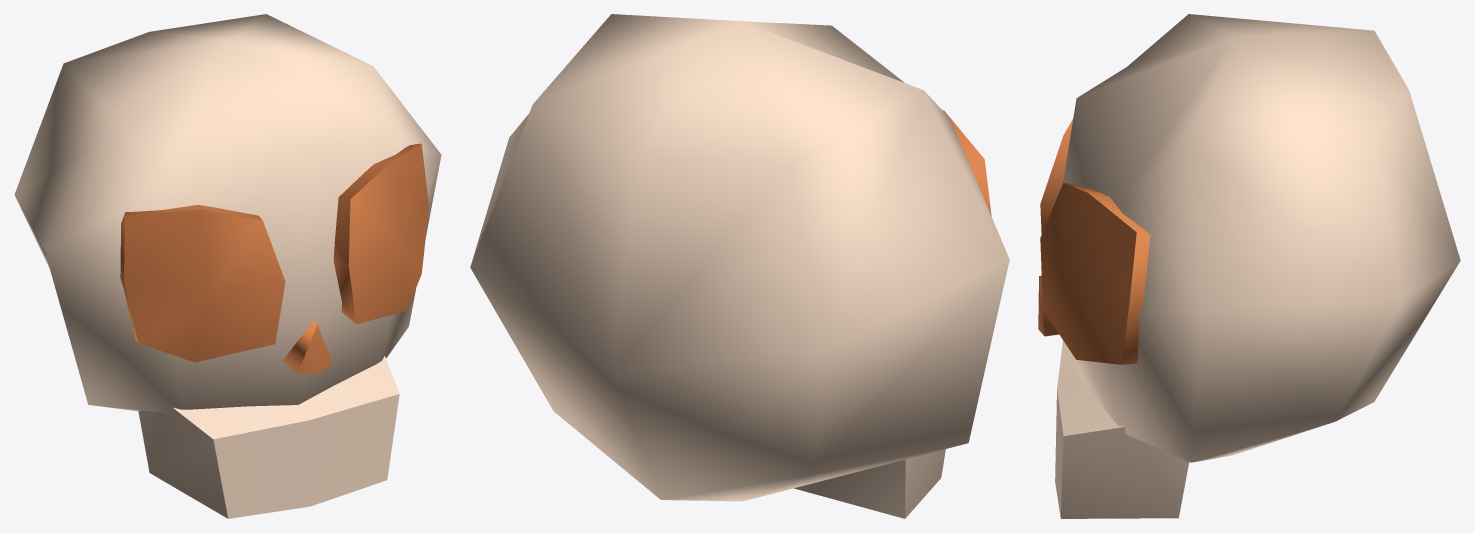
File: Skull.fbx
The picture shows the model from 3 angles, left to right: view 1: azimuth 30°, elevation 25°; view 2: azimuth 150°, elevation 25°; view 3: azimuth 270°, elevation 25°; orthographic projection. The views are drawn at different scales.
Parts seen in each view (by area): view 1: Skull; view 2: Skull; view 3: Skull.
Boxes of the visible parts, bbox=[...] form: Skull: bbox=[14, 14, 441, 518]; Skull: bbox=[470, 14, 1009, 518]; Skull: bbox=[1038, 14, 1460, 518].
Size of the model in its own units: 30.03 by 29.33 by 25.22.
